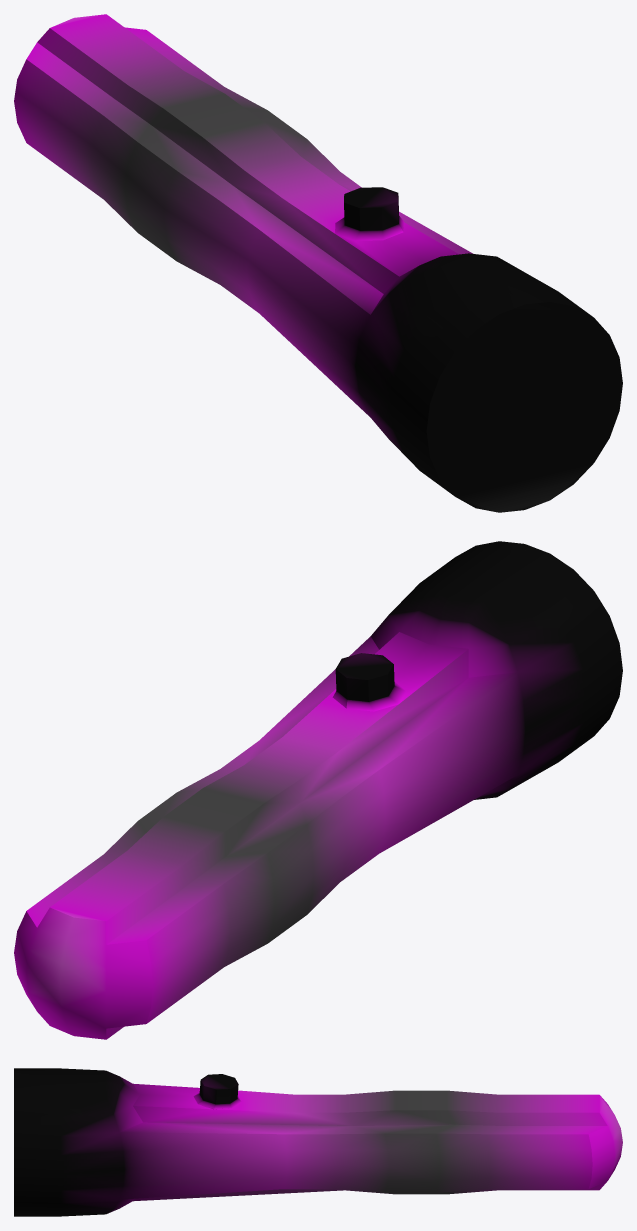
The model's file is Flashlight.fbx.
3 renders of one model, top to bottom at view 1: azimuth 30°, elevation 25°; view 2: azimuth 150°, elevation 25°; view 3: azimuth 270°, elevation 25°, orthographic. The views are drawn at different scales.
Visible parts, largest first — view 1: Sphere; view 2: Sphere; view 3: Sphere.
Part boxes in pixels (left/top/right/bottom): Sphere: left=14, top=14, right=622, bottom=512; Sphere: left=14, top=541, right=622, bottom=1039; Sphere: left=14, top=1068, right=622, bottom=1216.
Size of the model in its own units: 200 by 200 by 819.
